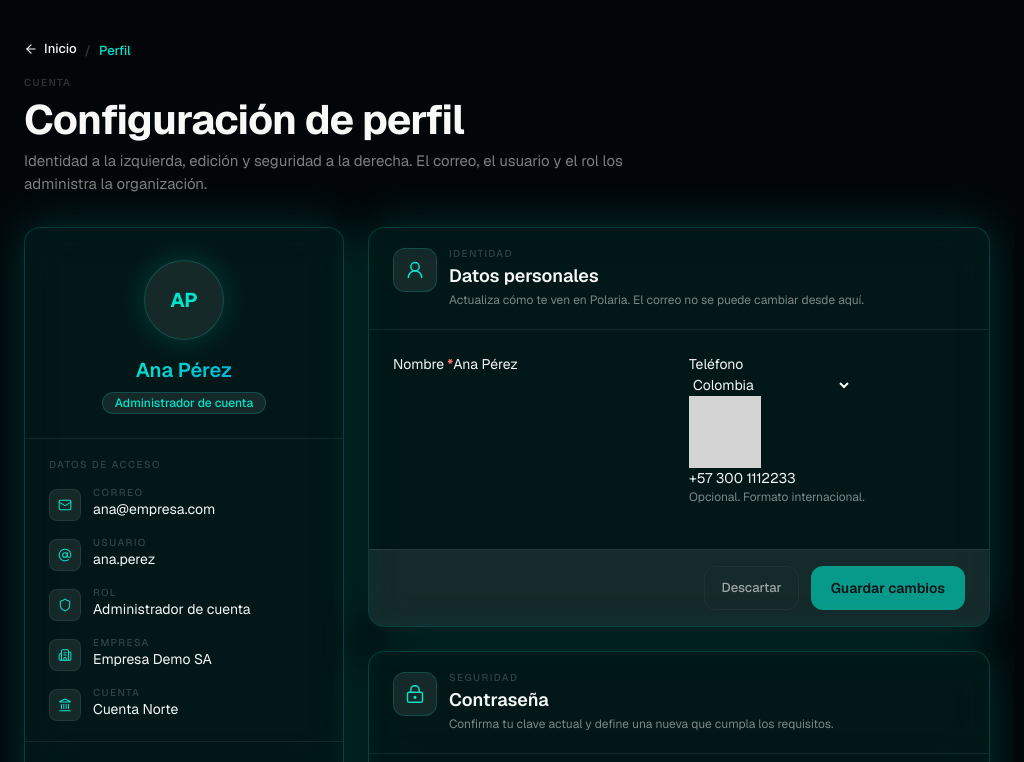
Test: PerfilPageContent › guarda el nombre editado
Replace the text in the field labelled "Nombre *" with "Ana María Pérez" at {"x": 549, "y": 364}, box [453,354,644,374]
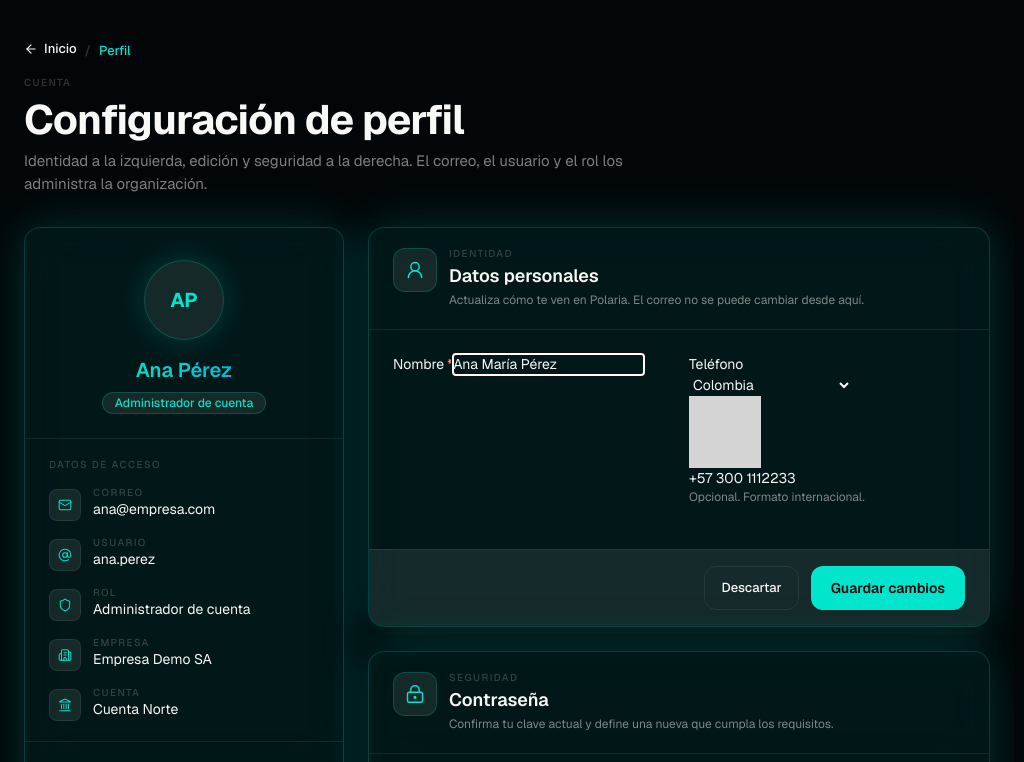
Click the button "Guardar cambios" at {"x": 888, "y": 588}, box [811,566,965,610]
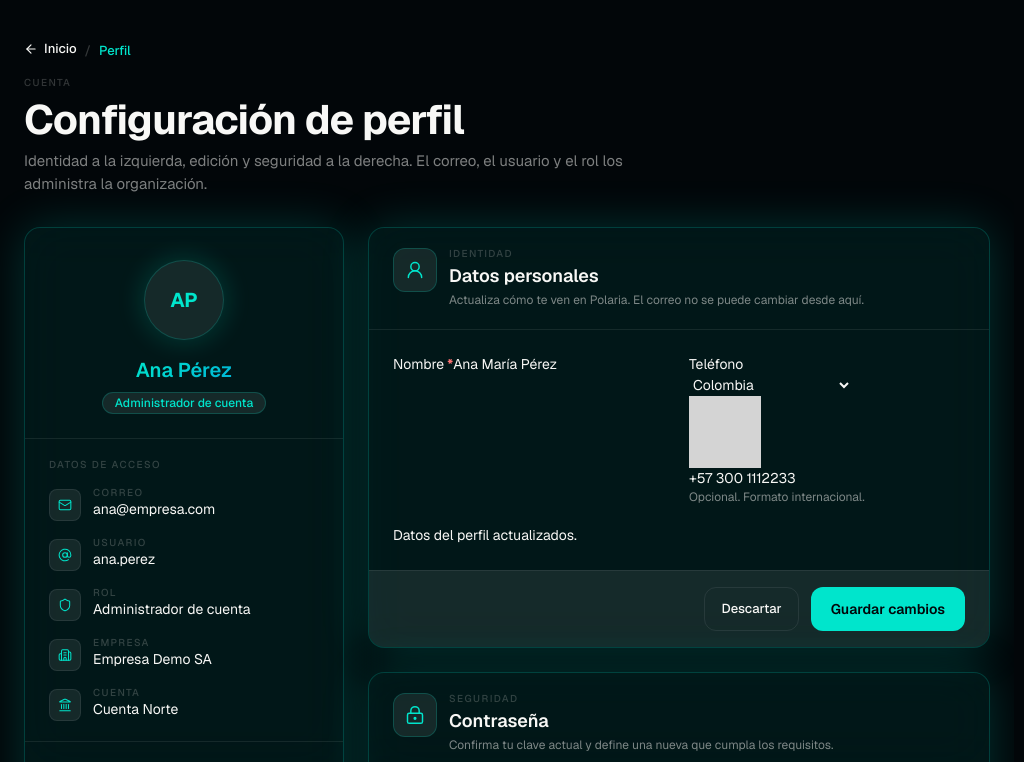
Check: the message reads "Datos del perfil actualizados.", box [393,526,577,544]
